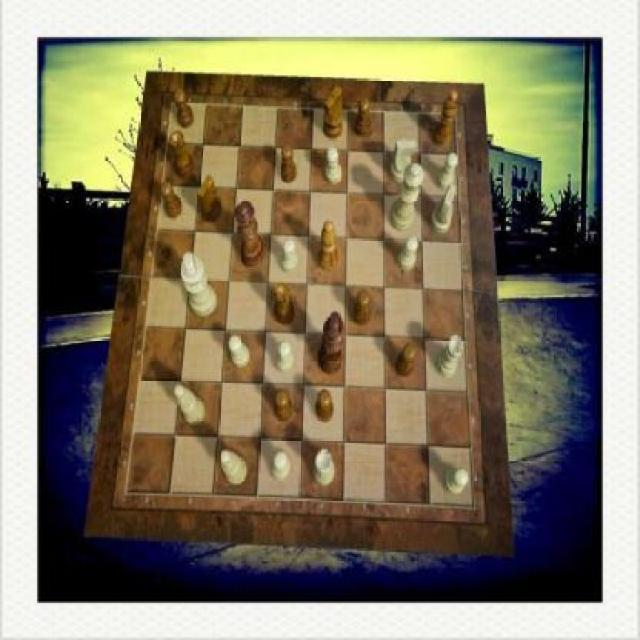bishop: (432, 89, 458, 147), (318, 220, 338, 272)
black-bishop: (317, 312, 345, 376)
black-king: (197, 175, 221, 223), (324, 88, 344, 140)
black-knight: (160, 182, 182, 219), (174, 89, 194, 129), (396, 343, 416, 377), (354, 98, 371, 138), (352, 290, 370, 326), (315, 389, 333, 423), (274, 391, 293, 423), (282, 145, 298, 183)
black-pawn: (236, 200, 266, 269)
black-queen: (171, 131, 195, 180), (276, 281, 296, 324)
black-rook: (176, 385, 206, 426), (220, 449, 248, 484)
white-bishop: (180, 252, 218, 318)
white-king: (431, 183, 457, 232), (392, 138, 417, 182)
white-knight: (435, 152, 458, 190), (397, 235, 418, 270), (229, 336, 250, 370), (445, 468, 469, 494), (275, 340, 293, 374), (280, 239, 298, 273), (326, 146, 342, 184), (272, 451, 292, 480)
white-pawn: (391, 165, 426, 232)
white-queen: (437, 335, 465, 378), (312, 449, 335, 487)
